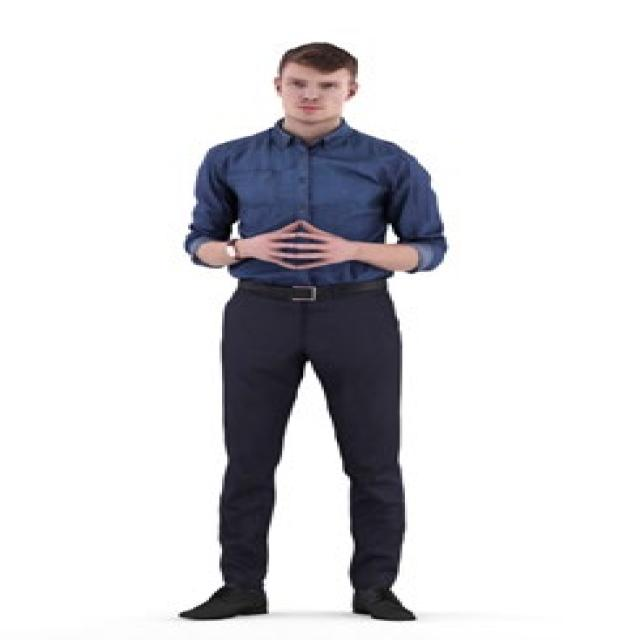standing: (170, 41, 452, 625)
